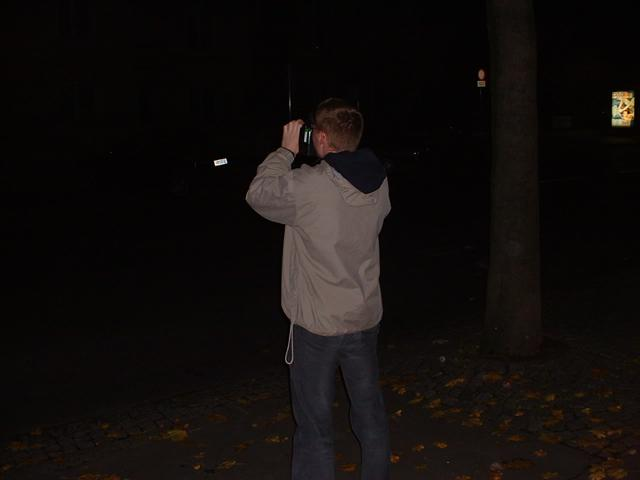car: (93, 111, 240, 202)
